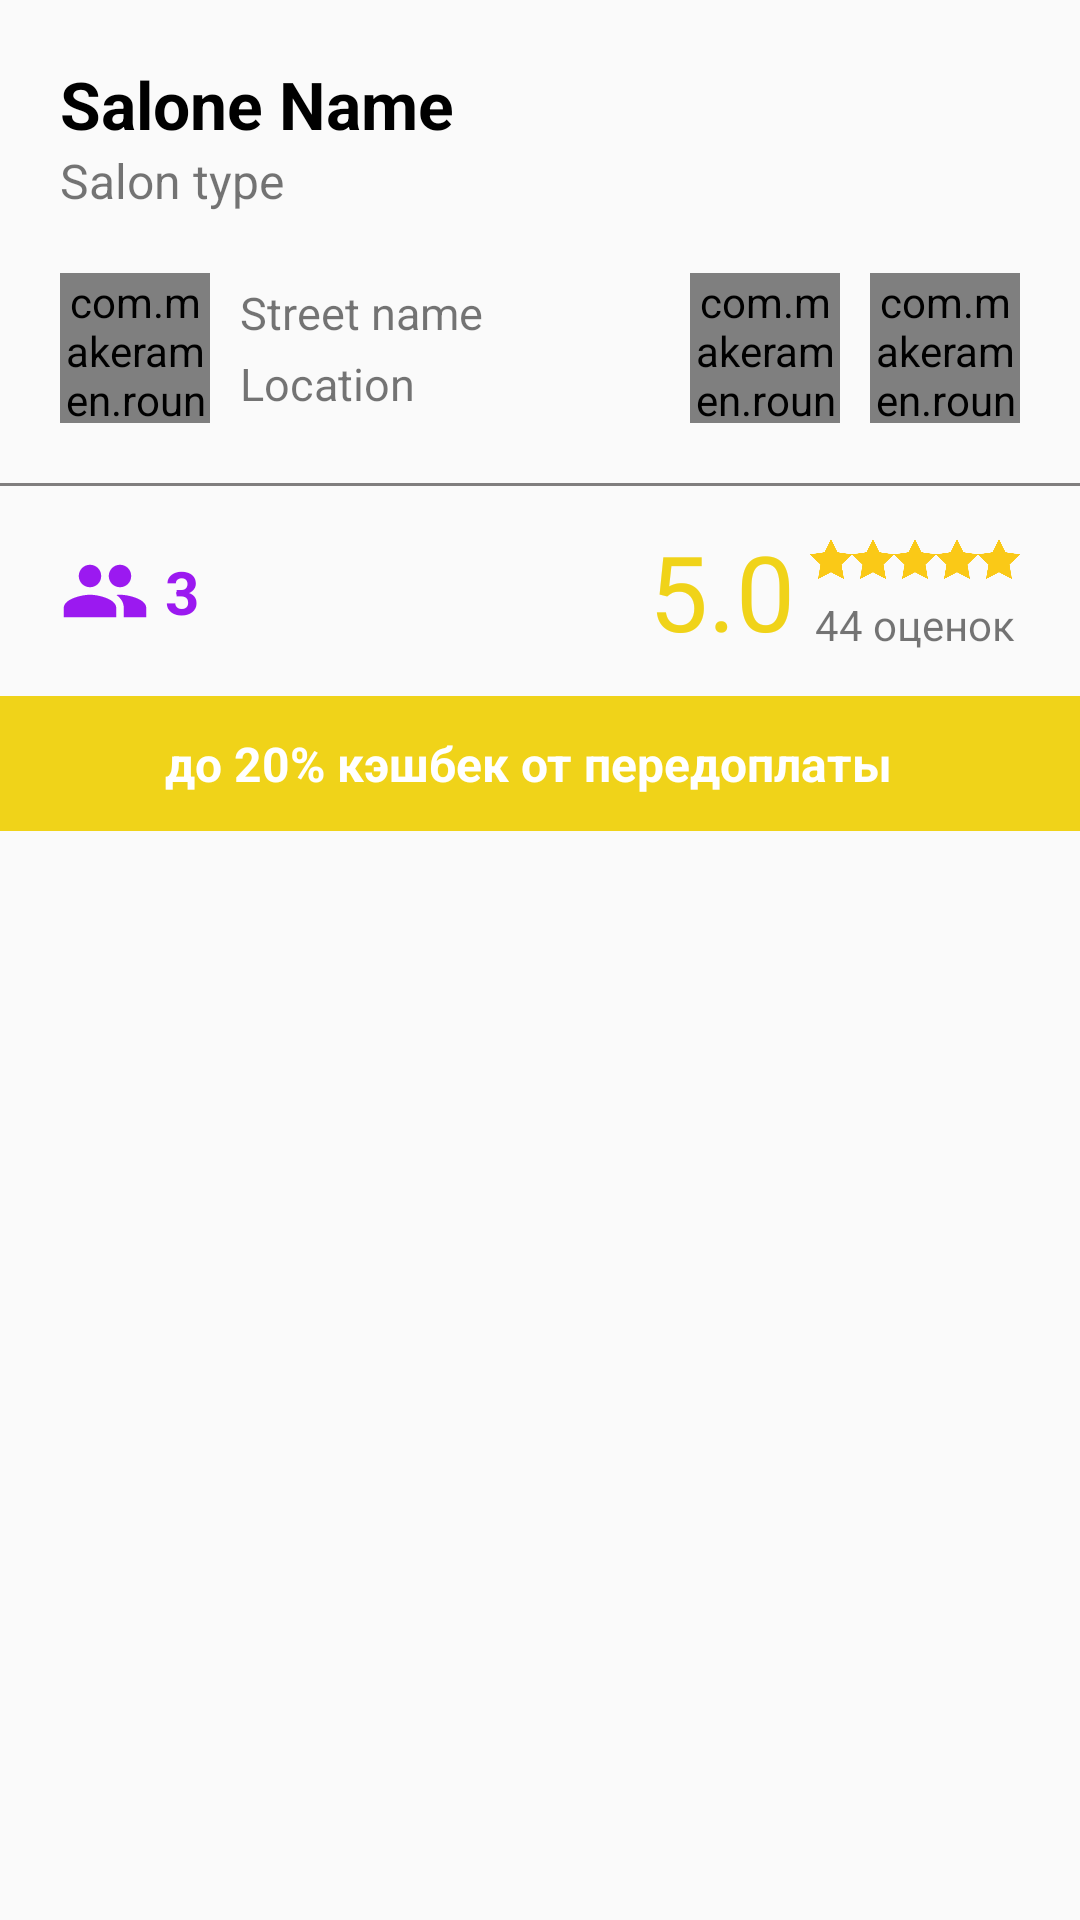

Named icons in this screenshot (1080w x 1920h) and their bounding boxes, detection(x1, y1, x2, y2):
people: detection(63, 564, 147, 618)
stars: detection(810, 540, 1020, 579)
